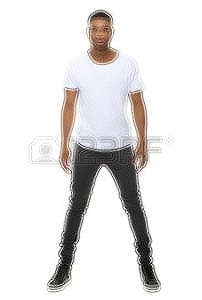arm: (130, 66, 150, 144), (62, 66, 79, 145)
chest: (78, 65, 131, 145)
face: (87, 9, 114, 45)
foot: (48, 265, 74, 294), (138, 264, 164, 291)
hand: (134, 142, 150, 171), (60, 144, 74, 174)
leg: (107, 176, 156, 264), (60, 176, 106, 263)
neck: (88, 46, 116, 64)
